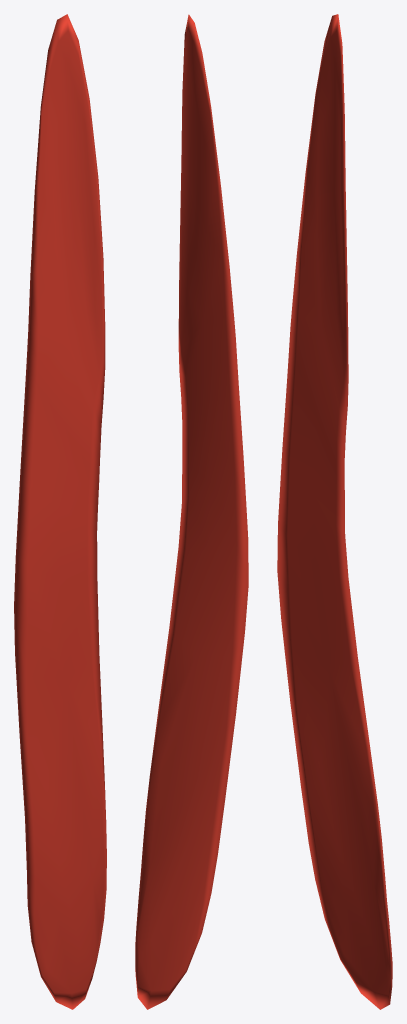
The model's file is Flexor_digitorum_longus_on_medial_third_of_post._tibial_surf.r_.glb.
3 views of the same model, side by side, from view 1: azimuth 30°, elevation 25°; view 2: azimuth 150°, elevation 25°; view 3: azimuth 330°, elevation 25° (orthographic). The views are drawn at different scales.
Parts seen in each view (by area): view 1: Flexor_digitorum_longus_on_medial_third_of_post._tibial_surf; view 2: Flexor_digitorum_longus_on_medial_third_of_post._tibial_surf; view 3: Flexor_digitorum_longus_on_medial_third_of_post._tibial_surf.
Part boxes in pixels (x1,y1,x2,y2): Flexor_digitorum_longus_on_medial_third_of_post._tibial_surf: (14,14,106,1009); Flexor_digitorum_longus_on_medial_third_of_post._tibial_surf: (135,14,248,1009); Flexor_digitorum_longus_on_medial_third_of_post._tibial_surf: (277,14,392,1009).
Size of the model in its own units: 0.0146 by 0.1393 by 0.00808.
